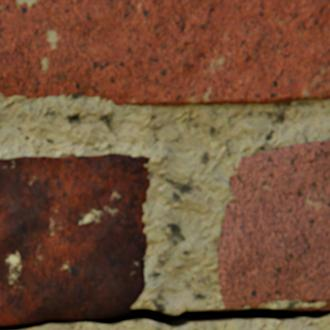brick: (0, 0, 329, 106), (0, 154, 149, 325), (216, 142, 329, 308)
crack: (0, 307, 329, 329)
